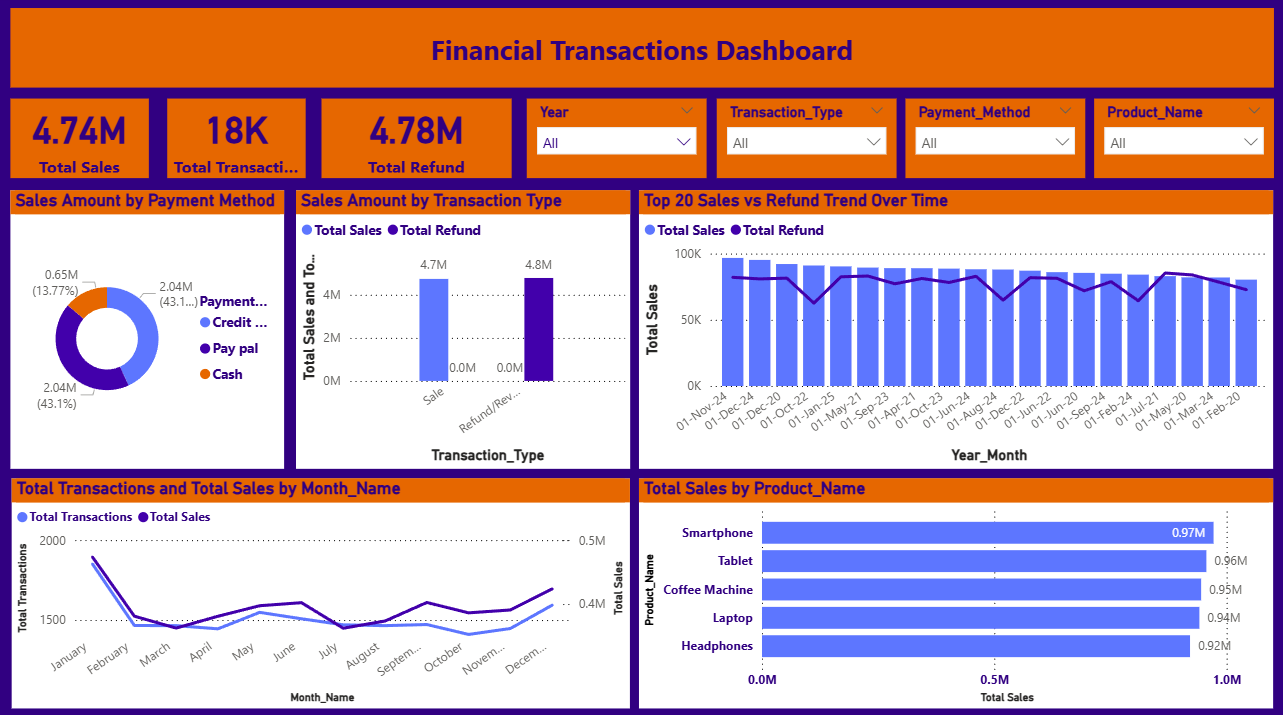

The page's visual inventory and layout, read from the dashboard file:
{"tool":"powerbi","page":{"name":"Report","canvas":[1280,720],"ordinal":0},"visuals":[{"type":"textbox","box":[20.3,13.5,1245.2,78.3],"z":0},{"type":"slicer","fields":{"Values":["cleaned_financial_transactions.Year"]},"box":[529.4,102.6,176.9,78.3],"z":1000},{"type":"slicer","fields":{"Values":["cleaned_financial_transactions.Transaction_Type"]},"box":[715.8,102.6,176.9,78.3],"z":2000},{"type":"slicer","fields":{"Values":["cleaned_financial_transactions.Payment_Method"]},"box":[902.1,102.6,176.9,78.3],"z":3000},{"type":"slicer","fields":{"Values":["cleaned_financial_transactions.Product_Name"]},"box":[1088.5,102.6,176.9,78.3],"z":4000},{"type":"card","fields":{"Values":["cleaned_financial_transactions.Total Sales"]},"box":[20.3,102.6,136.4,78.3],"z":5000},{"type":"card","fields":{"Values":["cleaned_financial_transactions.Total Refund"]},"box":[326.8,102.6,187.7,78.3],"z":6000},{"type":"card","fields":{"Values":["cleaned_financial_transactions.Total Transactions"]},"box":[174.2,102.6,136.4,78.3],"z":7000},{"type":"clusteredColumnChart","title":"Sales Amount by Transaction Type","fields":{"Category":["cleaned_financial_transactions.Transaction_Type"],"Y":["cleaned_financial_transactions.Total Sales","cleaned_financial_transactions.Total Refund"]},"box":[301.2,193.1,329.5,274.2],"z":8000},{"type":"donutChart","title":"Sales Amount by Payment Method","fields":{"Category":["cleaned_financial_transactions.Payment_Method"],"Y":["cleaned_financial_transactions.Total Sales"]},"box":[20.3,193.1,270.1,274.2],"z":9000},{"type":"clusteredBarChart","fields":{"Category":["cleaned_financial_transactions.Product_Name"],"Y":["cleaned_financial_transactions.Total Sales"]},"box":[640.1,478.1,625.3,226.9],"z":10000},{"type":"lineClusteredColumnComboChart","title":"Top 20 Sales vs Refund Trend Over Time","fields":{"Category":["cleaned_financial_transactions.Year_Month"],"Y":["cleaned_financial_transactions.Total Sales"],"Y2":["cleaned_financial_transactions.Total Refund"]},"box":[640.1,193.1,625.3,274.2],"z":11000},{"type":"lineChart","fields":{"Category":["cleaned_financial_transactions.Month_Name"],"Y":["cleaned_financial_transactions.Total Transactions"],"Y2":["cleaned_financial_transactions.Total Sales"]},"box":[21.6,478.1,609.1,226.9],"z":12000}]}

Visuals, with their boxes in screenshot pixels (x1, y1, x2, y2), scaled from the page's 1280x720 canvas onto the 1283x715 screenshot:
textbox: l=20, t=13, r=1268, b=91
slicer - cleaned_financial_transactions.Year: l=531, t=102, r=708, b=180
slicer - cleaned_financial_transactions.Transaction_Type: l=717, t=102, r=895, b=180
slicer - cleaned_financial_transactions.Payment_Method: l=904, t=102, r=1082, b=180
slicer - cleaned_financial_transactions.Product_Name: l=1091, t=102, r=1268, b=180
card - cleaned_financial_transactions.Total Sales: l=20, t=102, r=157, b=180
card - cleaned_financial_transactions.Total Refund: l=328, t=102, r=516, b=180
card - cleaned_financial_transactions.Total Transactions: l=175, t=102, r=311, b=180
"Sales Amount by Transaction Type" clusteredColumnChart: l=302, t=192, r=632, b=464
"Sales Amount by Payment Method" donutChart: l=20, t=192, r=291, b=464
clusteredBarChart - cleaned_financial_transactions.Product_Name x cleaned_financial_transactions.Total Sales: l=642, t=475, r=1268, b=700
"Top 20 Sales vs Refund Trend Over Time" lineClusteredColumnComboChart: l=642, t=192, r=1268, b=464
lineChart - cleaned_financial_transactions.Month_Name x cleaned_financial_transactions.Total Transactions: l=22, t=475, r=632, b=700
